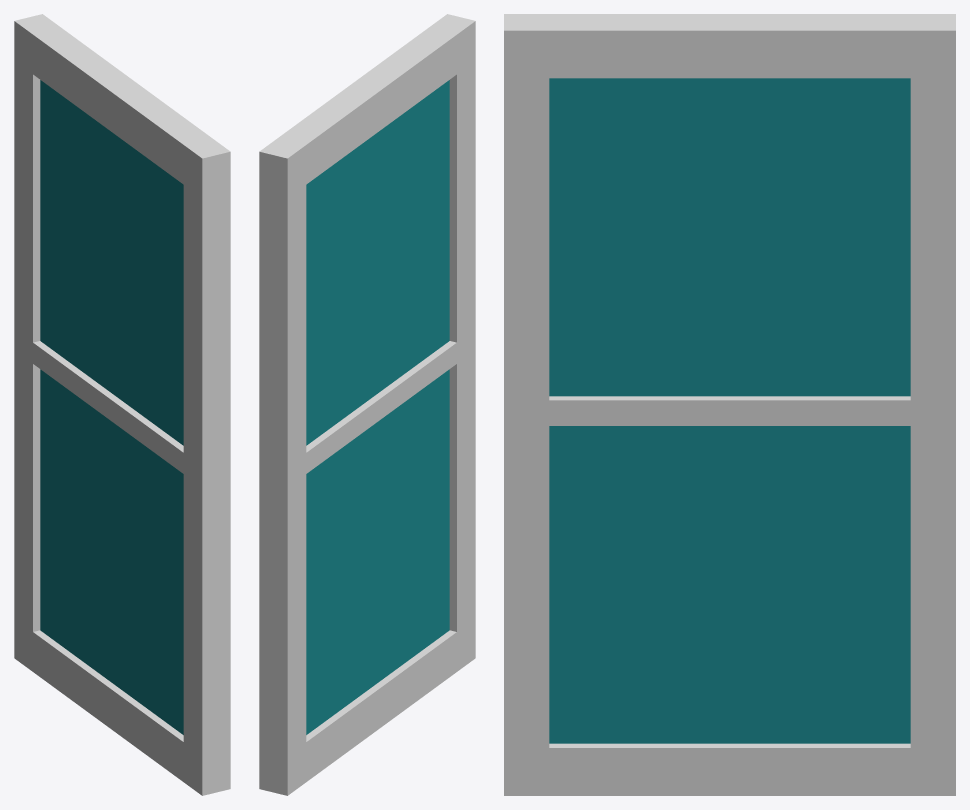
Rendered from BigWindow.fbx.
3 renders of one model, left to right at view 1: azimuth 30°, elevation 25°; view 2: azimuth 150°, elevation 25°; view 3: azimuth 270°, elevation 25°, orthographic. The views are drawn at different scales.
Visible parts, largest first — view 1: BigWindow; view 2: BigWindow; view 3: BigWindow.
Boxes of the visible parts, x1,y1,x2,y2 form: BigWindow: [14, 14, 230, 795]; BigWindow: [259, 14, 475, 795]; BigWindow: [504, 14, 955, 795].
Size of the model in its own units: 10 by 215 by 115.
